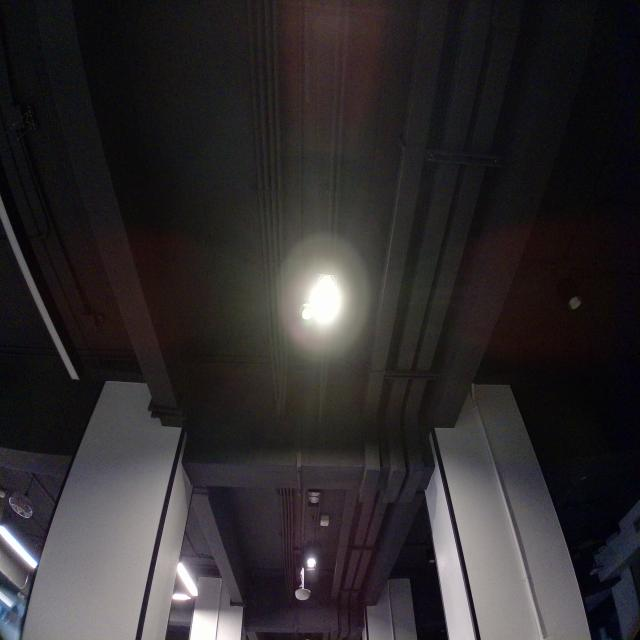lamp1_on: (297, 263, 350, 336)
